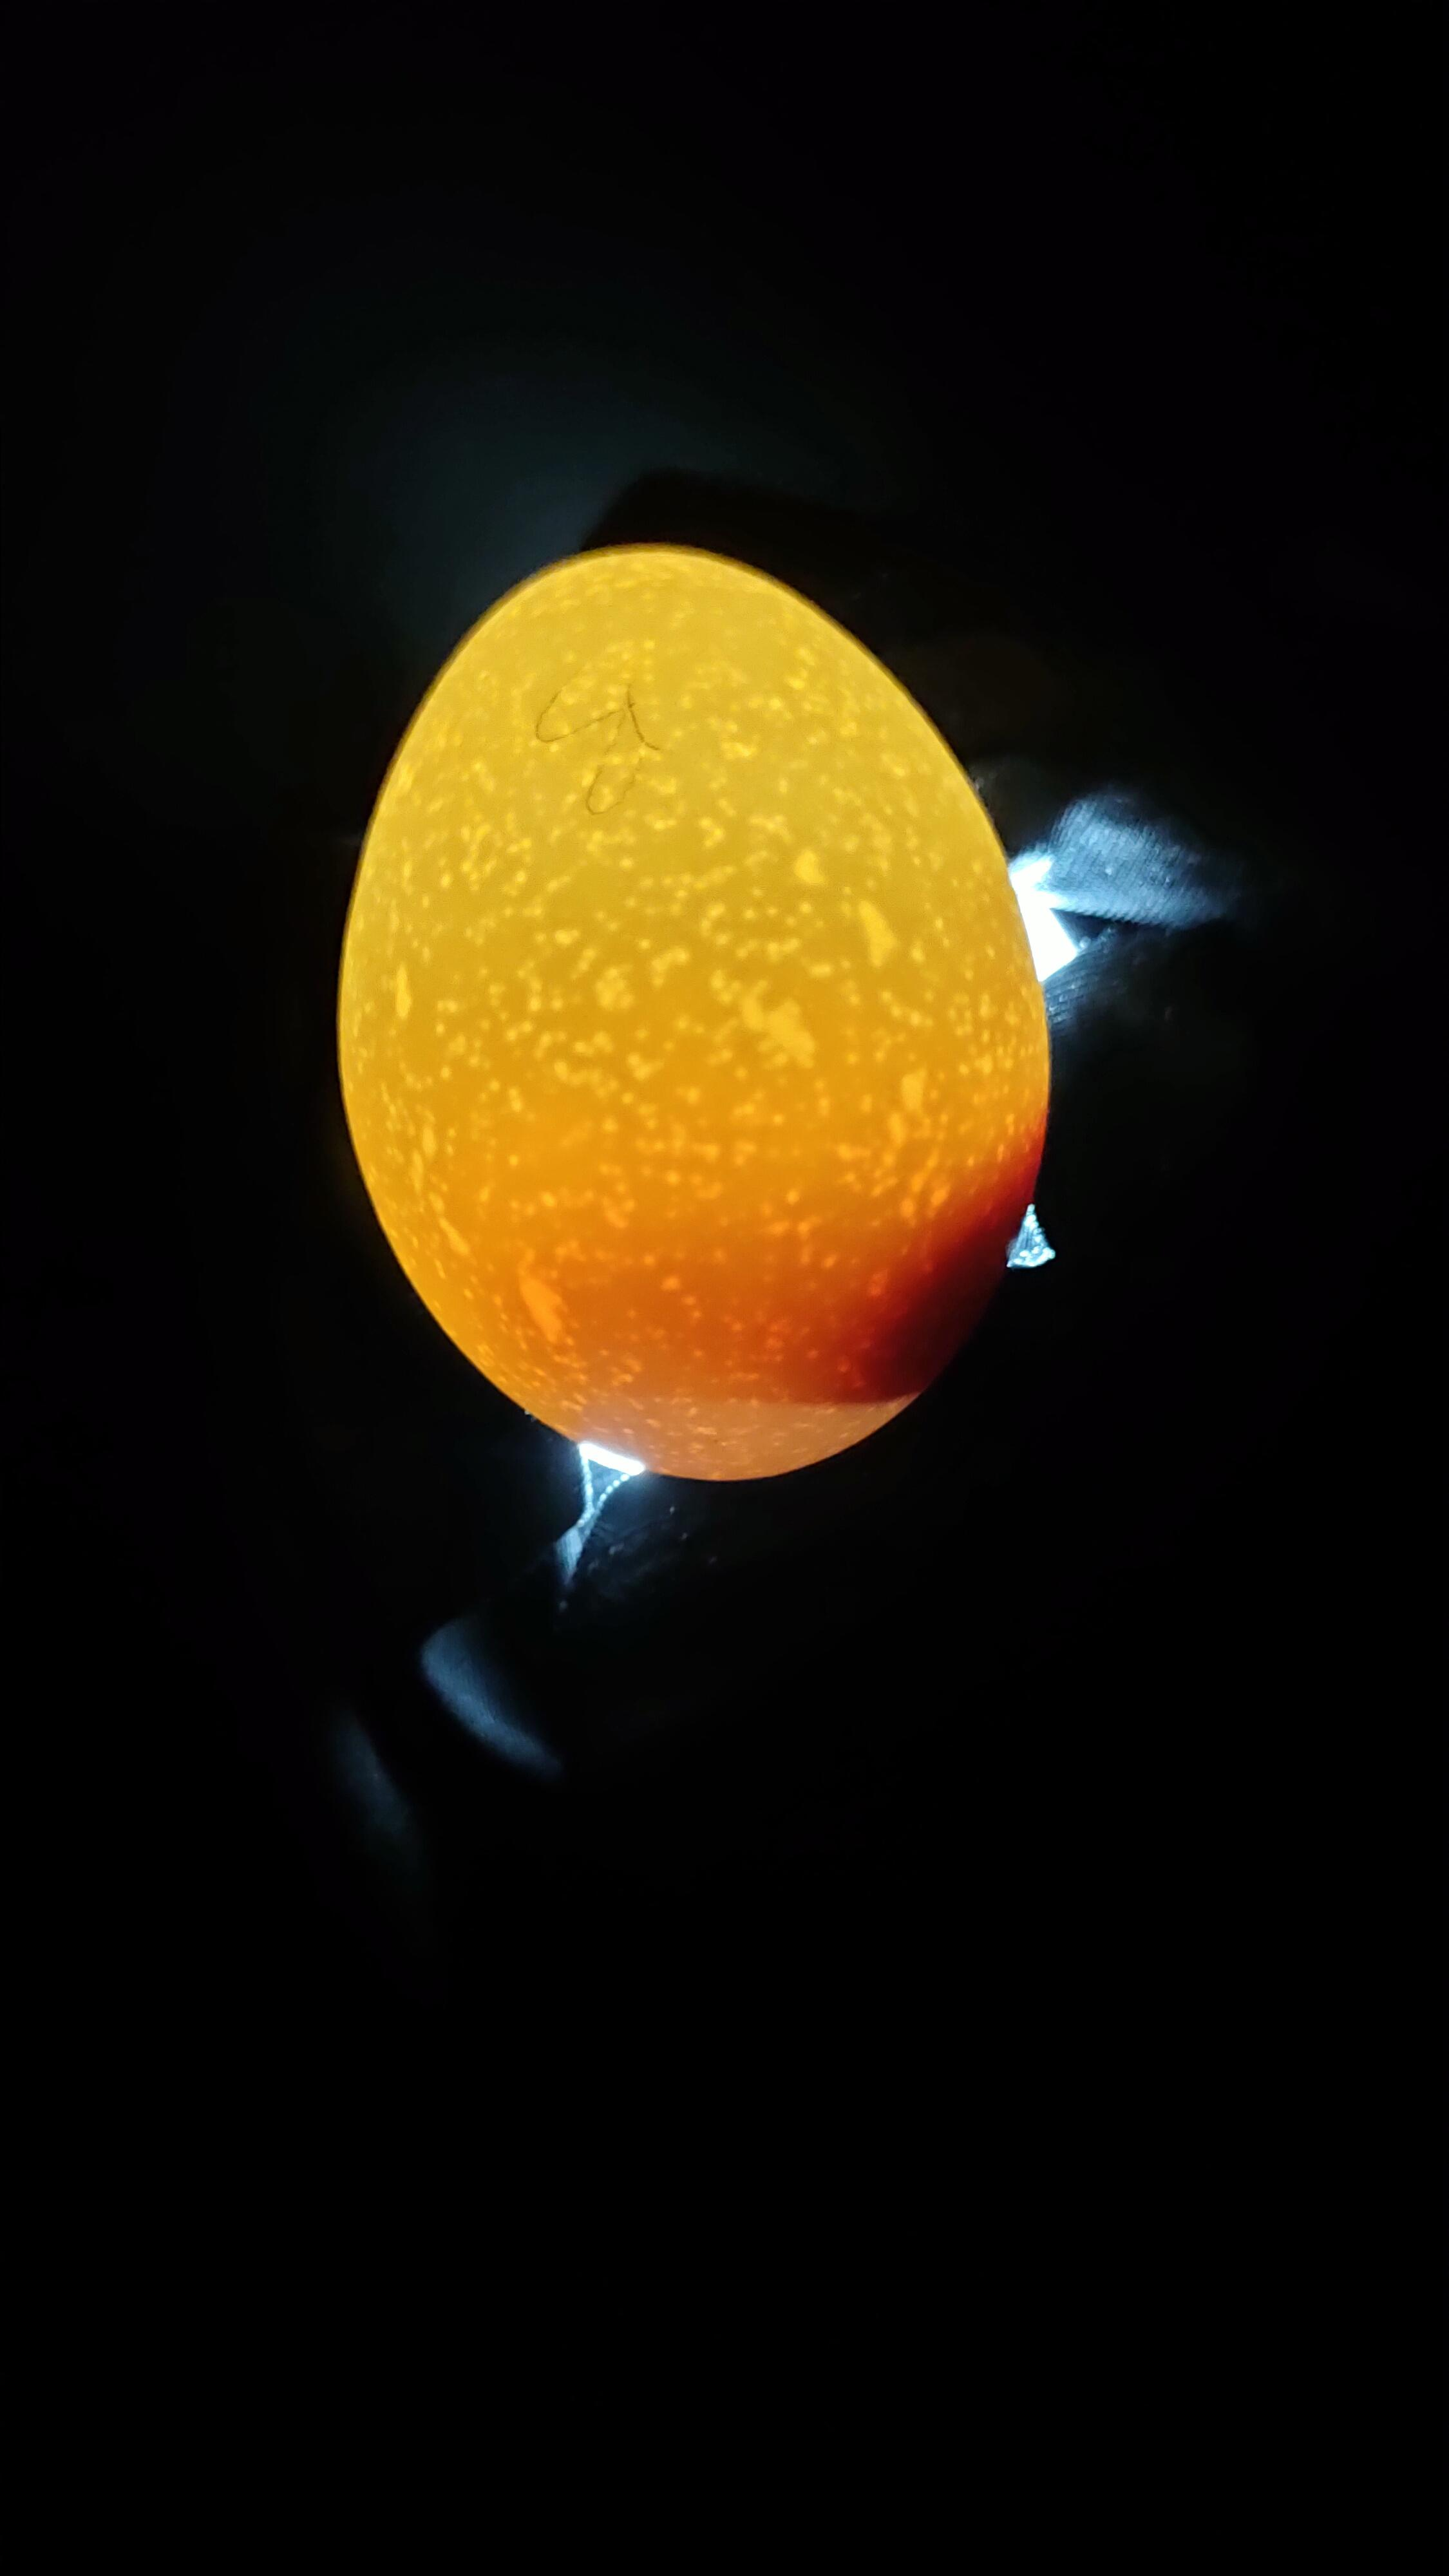AA - Premium: (278, 541, 1134, 1571)
